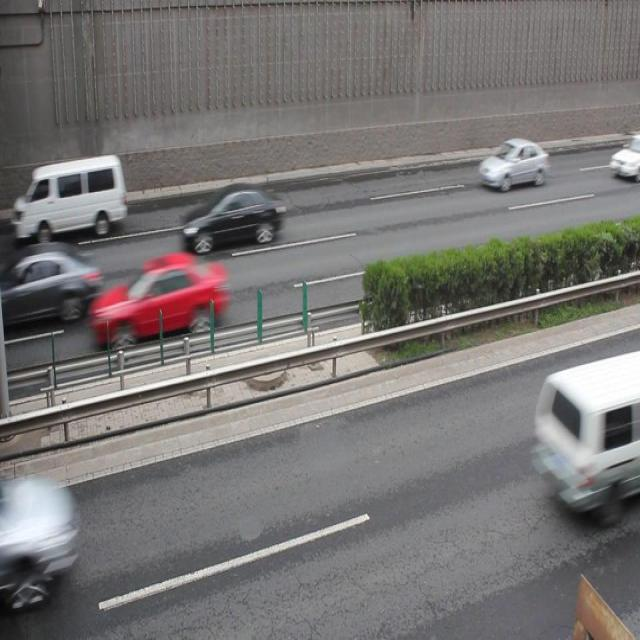car: (95, 251, 226, 346), (1, 468, 74, 602), (0, 246, 99, 324), (184, 185, 284, 251), (479, 134, 546, 191), (608, 135, 640, 177)
truck: (532, 356, 640, 514), (13, 153, 130, 244)
